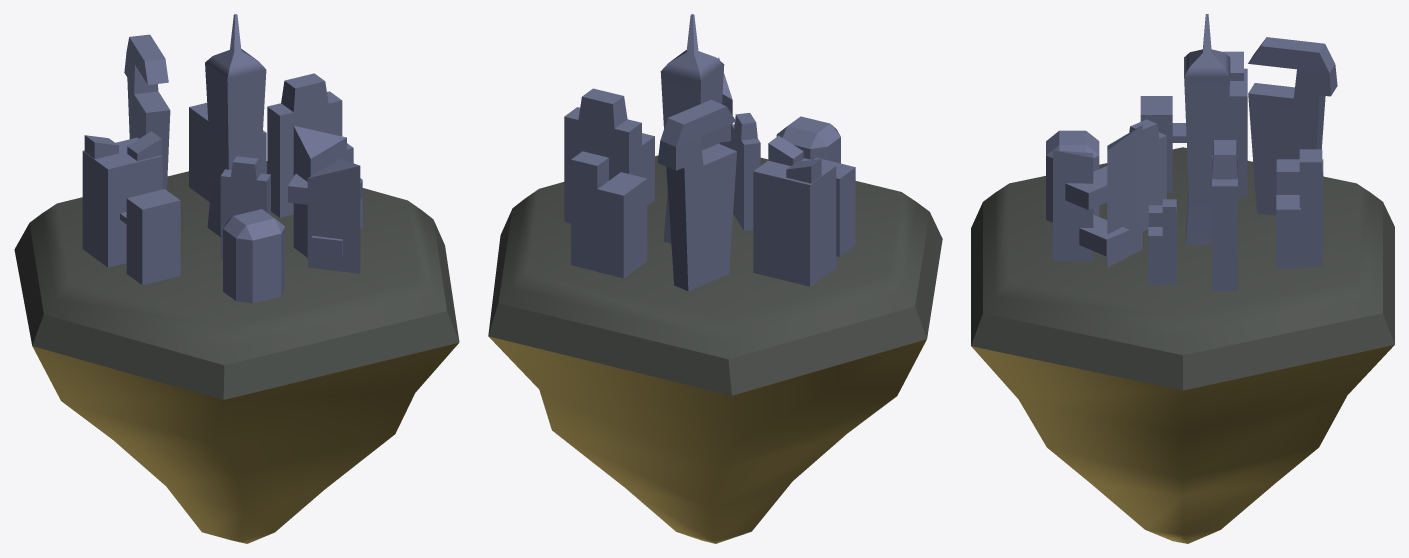
File: CityCenter_Tile.fbx
3 renders of one model, left to right at view 1: azimuth 30°, elevation 25°; view 2: azimuth 150°, elevation 25°; view 3: azimuth 270°, elevation 25°, orthographic. The views are drawn at different scales.
Parts seen in each view (by area): view 1: iland; view 2: iland; view 3: iland.
Boxes of the visible parts, box(x1,y1,x2,y2) form: iland: box(14, 14, 459, 543); iland: box(488, 14, 942, 543); iland: box(971, 14, 1394, 543).
Size of the model in its own units: 11.53 by 13.76 by 9.99.
